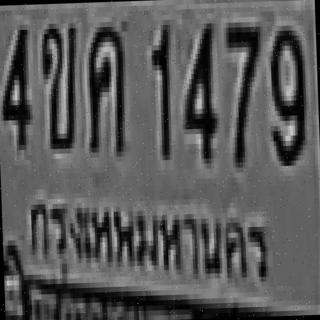A02: (37, 18, 78, 149)
A04: (85, 21, 126, 152)
N01: (148, 20, 172, 155)
N04: (179, 18, 216, 159), (0, 20, 28, 146)
N07: (223, 16, 262, 162)
N09: (267, 20, 306, 161)
P04: (24, 180, 274, 301)
